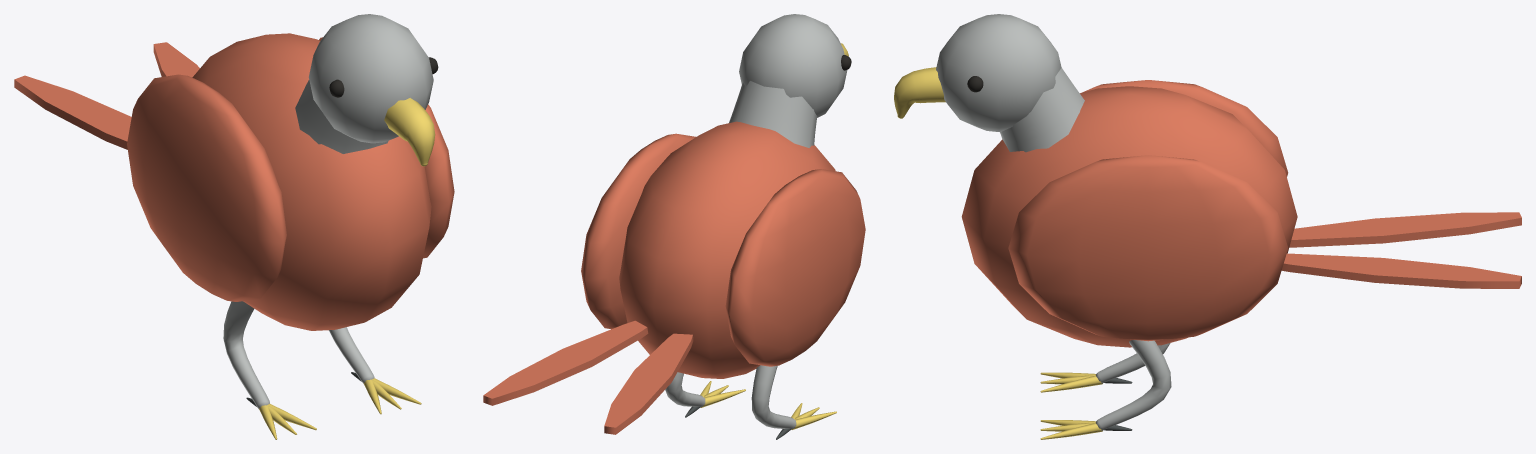
Rendered from birds-and-flying-creatures-red-kite-f90cb770__20588.glb.
The picture shows the model from 3 angles, left to right: view 1: azimuth 30°, elevation 25°; view 2: azimuth 150°, elevation 25°; view 3: azimuth 270°, elevation 25°; orthographic projection. The views are drawn at different scales.
Parts seen in each view (by area): view 1: red-kite; view 2: red-kite; view 3: red-kite.
Boxes of the visible parts, x1,y1,x2,y2 form: red-kite: [14, 14, 454, 439]; red-kite: [483, 14, 865, 439]; red-kite: [894, 14, 1521, 439].
Bounding box in the file's own units: 0.3496 × 0.6156 × 0.9016.
